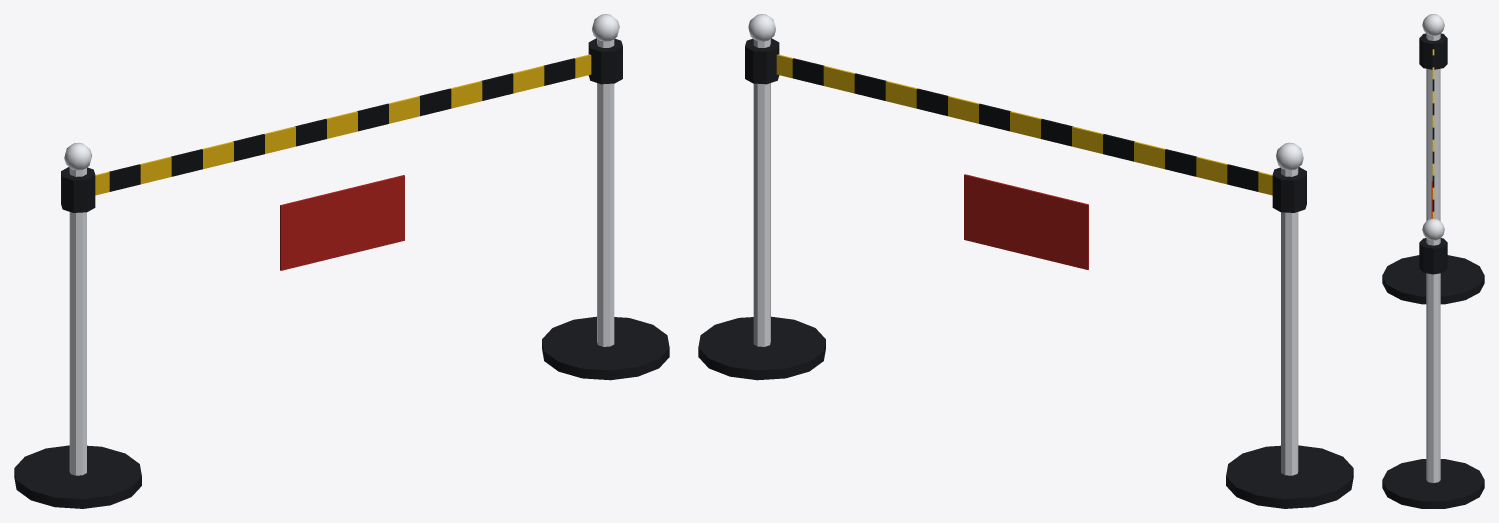
Rendered from sign_barrier_tape_frame.glb.
3 renders of one model, left to right at view 1: azimuth 30°, elevation 25°; view 2: azimuth 150°, elevation 25°; view 3: azimuth 270°, elevation 25°, orthographic. The views are drawn at different scales.
Visible parts, largest first — view 1: sign_barrier_tape_frame; view 2: sign_barrier_tape_frame; view 3: sign_barrier_tape_frame.
Boxes of the visible parts, box(x1,y1,x2,y2) form: sign_barrier_tape_frame: box(14, 14, 669, 508); sign_barrier_tape_frame: box(698, 14, 1353, 508); sign_barrier_tape_frame: box(1382, 14, 1484, 508).
Bounding box in the file's own units: 2.05 × 1.04 × 0.36.
